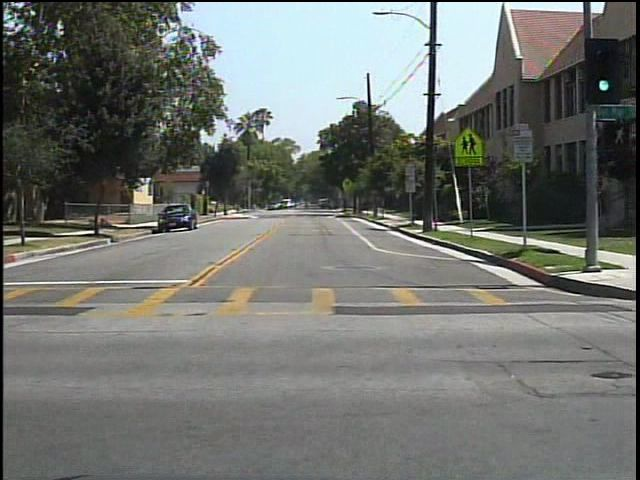person: (300, 197, 315, 214)
